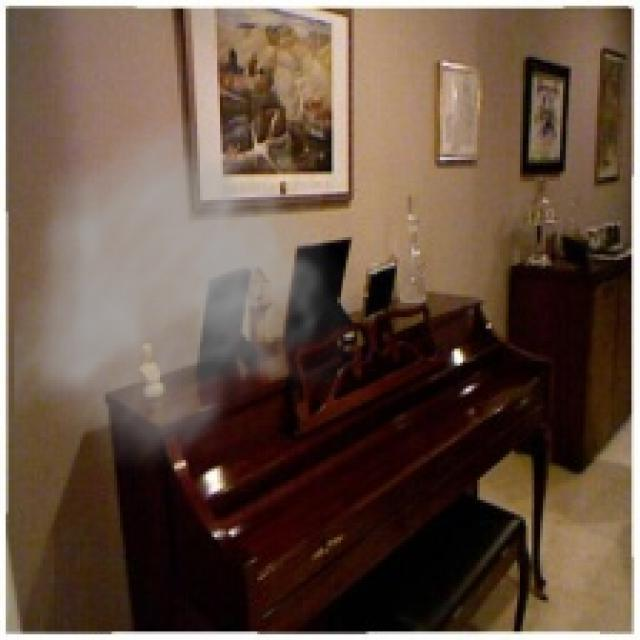Smoke: (14, 100, 363, 480)
